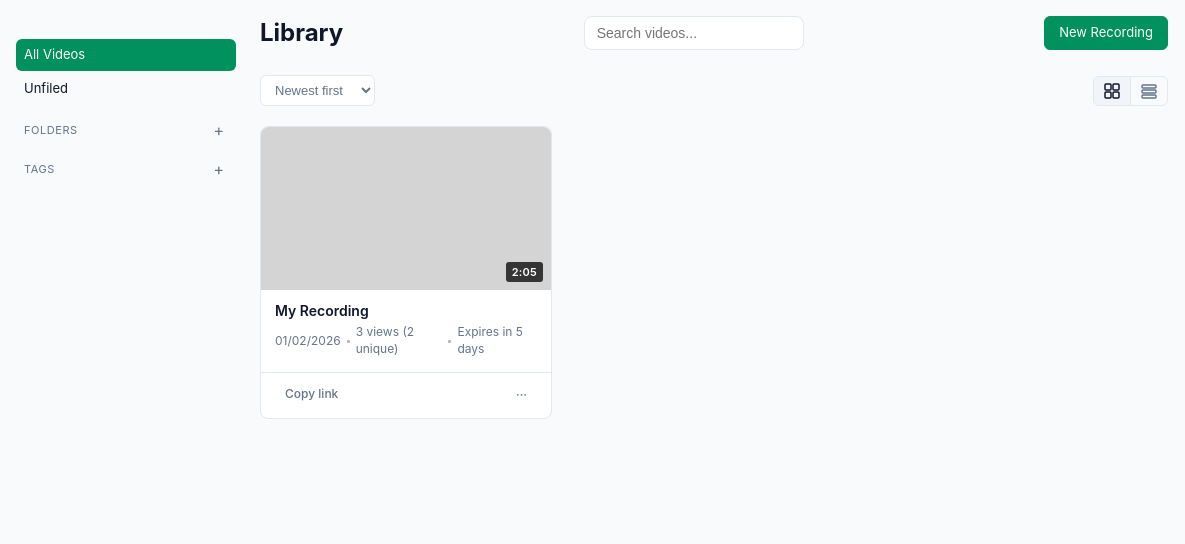
Test case: Library › shows overflow menu when clicking More actions button
Expected: the text "Download" is not shown
Click the button named "More actions".
click(522, 395)  # box [506,382,537,408]
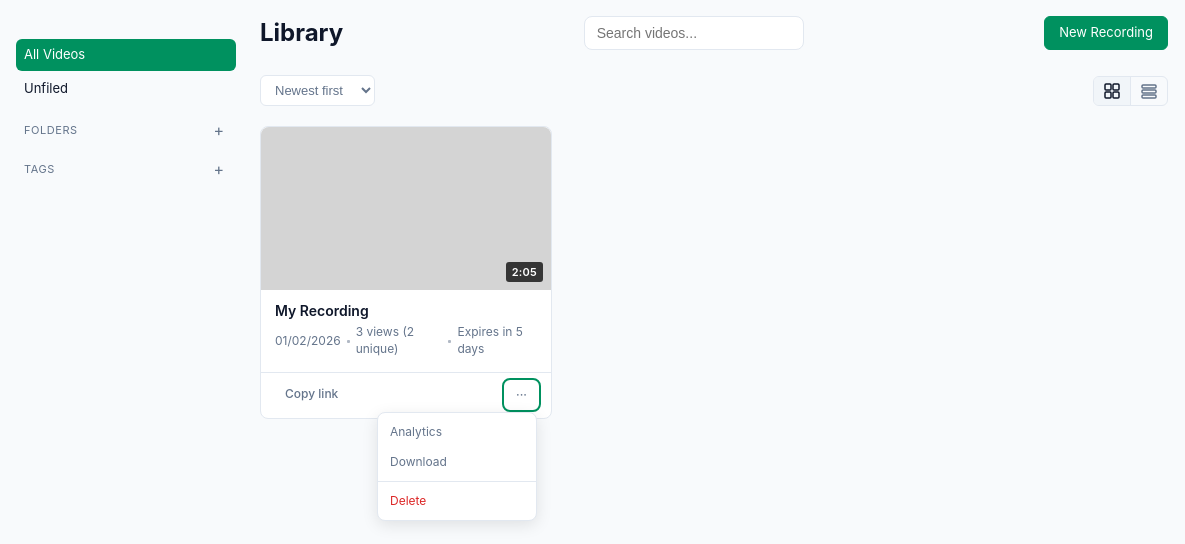
Result: the button "Download" is shown at [378,447,536,477]
Result: the link "Analytics" is shown at [390,424,442,439]
Result: the button "Delete" is shown at [378,486,536,516]
